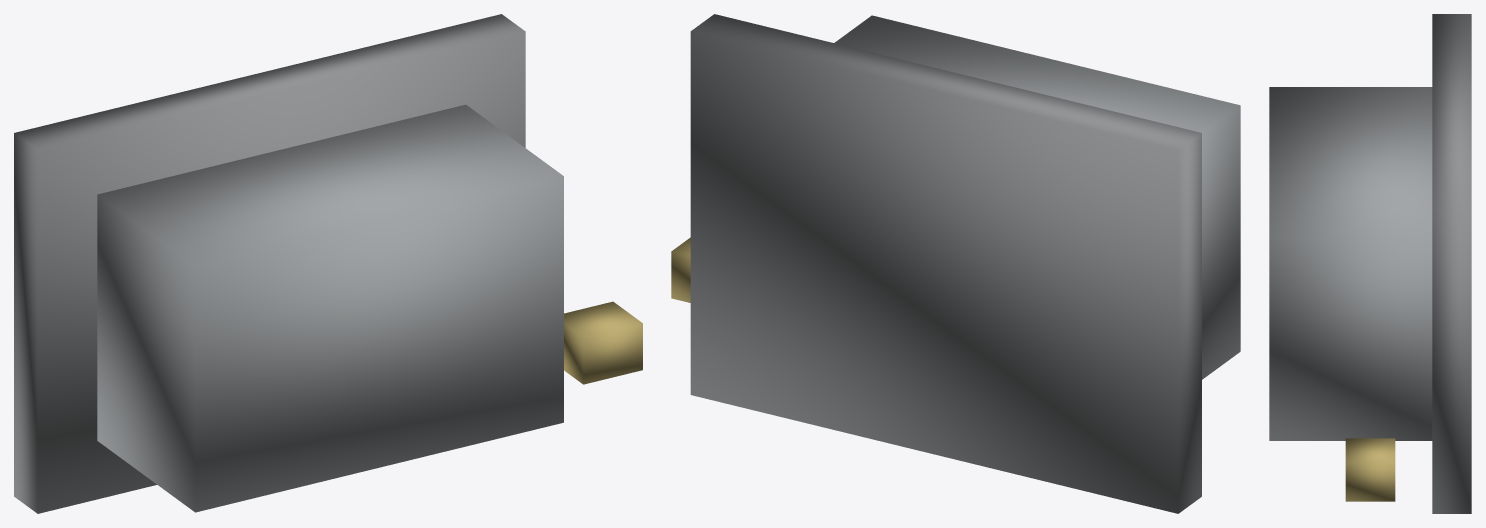
Rendered from duct_penetration_11.glb.
3 views of the same model, side by side, from view 1: azimuth 30°, elevation 25°; view 2: azimuth 150°, elevation 25°; view 3: azimuth 270°, elevation 25° (orthographic). The views are drawn at different scales.
Parts seen in each view (by area): view 1: world; view 2: world; view 3: world.
Part boxes in pixels (bbox=[...]): world: bbox=[14, 14, 642, 513]; world: bbox=[671, 14, 1240, 513]; world: bbox=[1269, 14, 1471, 513].
Bounding box in the file's own units: 0.9672 × 0.6076 × 0.369.
